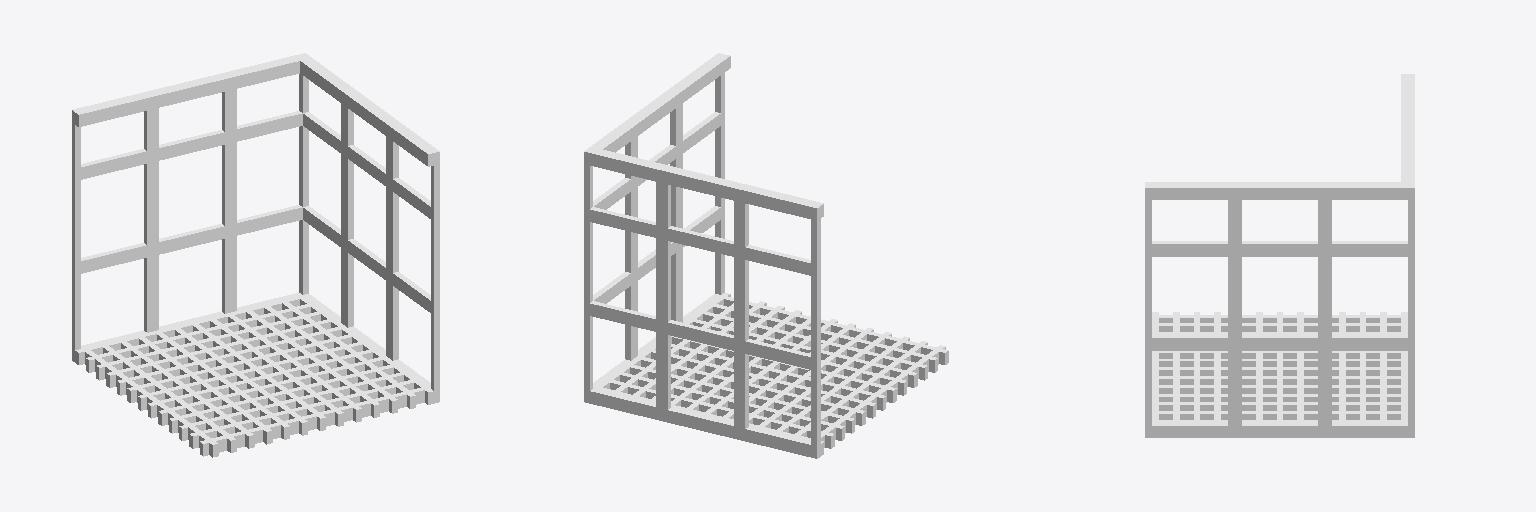
The model's file is emergency_exit_stair_flip.obj.
3 renders of one model, left to right at view 1: azimuth 30°, elevation 25°; view 2: azimuth 150°, elevation 25°; view 3: azimuth 270°, elevation 25°, orthographic.
Parts seen in each view (by area): view 1: object 1; view 2: object 1; view 3: object 1.
Part boxes in pixels (x1,y1,x2,y2): object 1: (72,53,439,457); object 1: (584,53,948,458); object 1: (1145,74,1414,437).
Bounding box in the file's own units: 3.9 × 4 × 3.9.